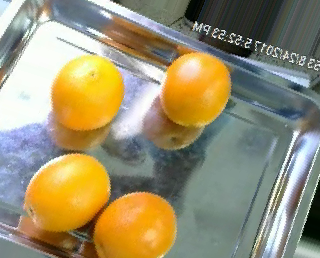Orange: (24, 152, 111, 231), (93, 190, 178, 258), (50, 54, 125, 130), (160, 50, 232, 127)
